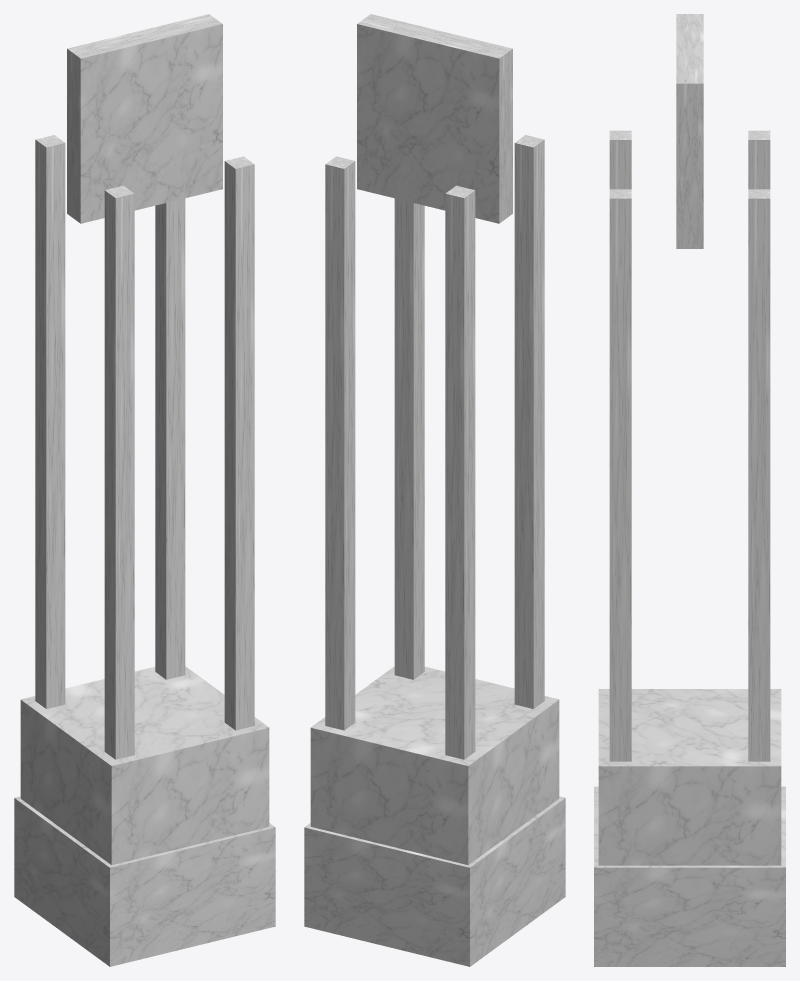
File: observatory.obj
The picture shows the model from 3 angles, left to right: view 1: azimuth 30°, elevation 25°; view 2: azimuth 150°, elevation 25°; view 3: azimuth 270°, elevation 25°; orthographic projection.
Parts seen in each view (by area): view 1: building; view 2: building; view 3: building.
Boxes of the visible parts, bbox=[...] form: building: bbox=[14, 14, 275, 966]; building: bbox=[304, 14, 565, 966]; building: bbox=[594, 14, 785, 966].
Size of the model in its own units: 2.62 by 13.25 by 2.62.
